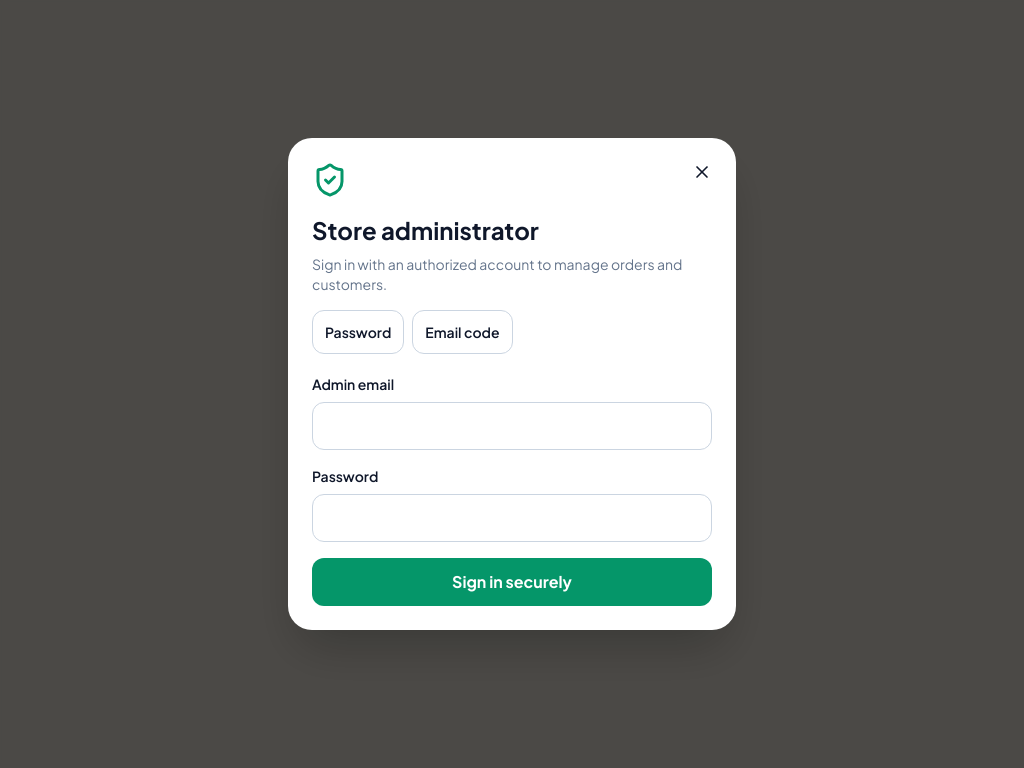
Test: administrator email-code sign-in › keeps delivery failures visible and never claims a code was sent
The image size is (1024, 768).
Click the button "Email code".
click(462, 332)  # box [412, 310, 513, 354]
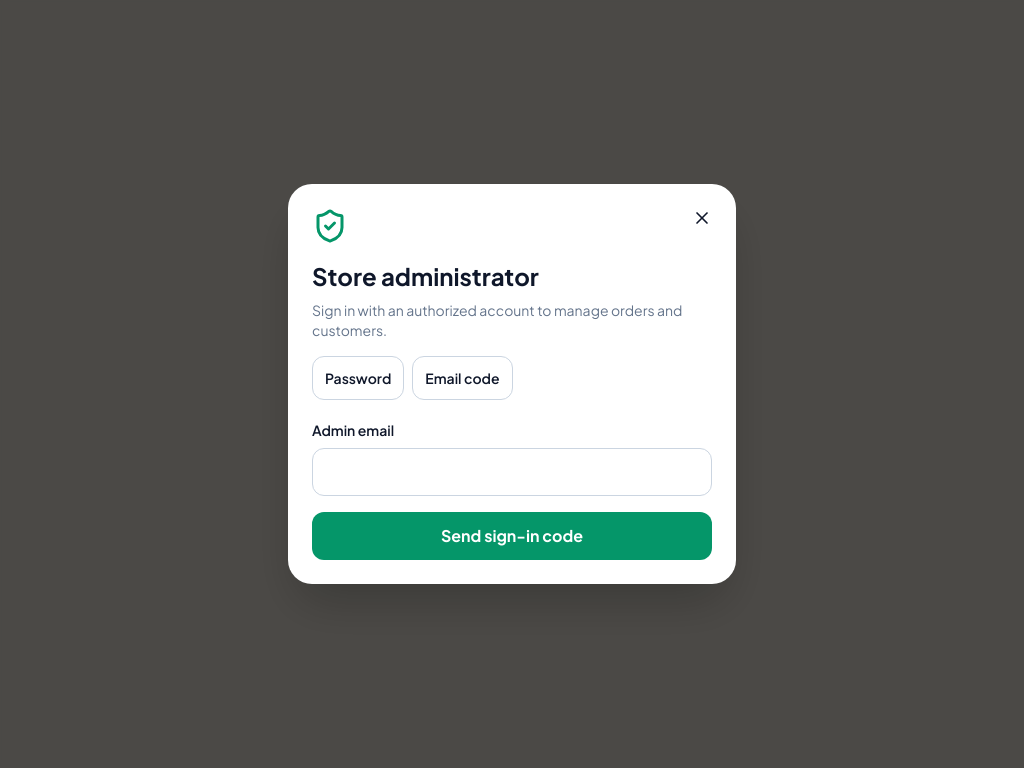
Type "staff@example.com" into the field labelled "Admin email".
click(512, 472); type("staff@example.com")  # box [312, 448, 712, 496]
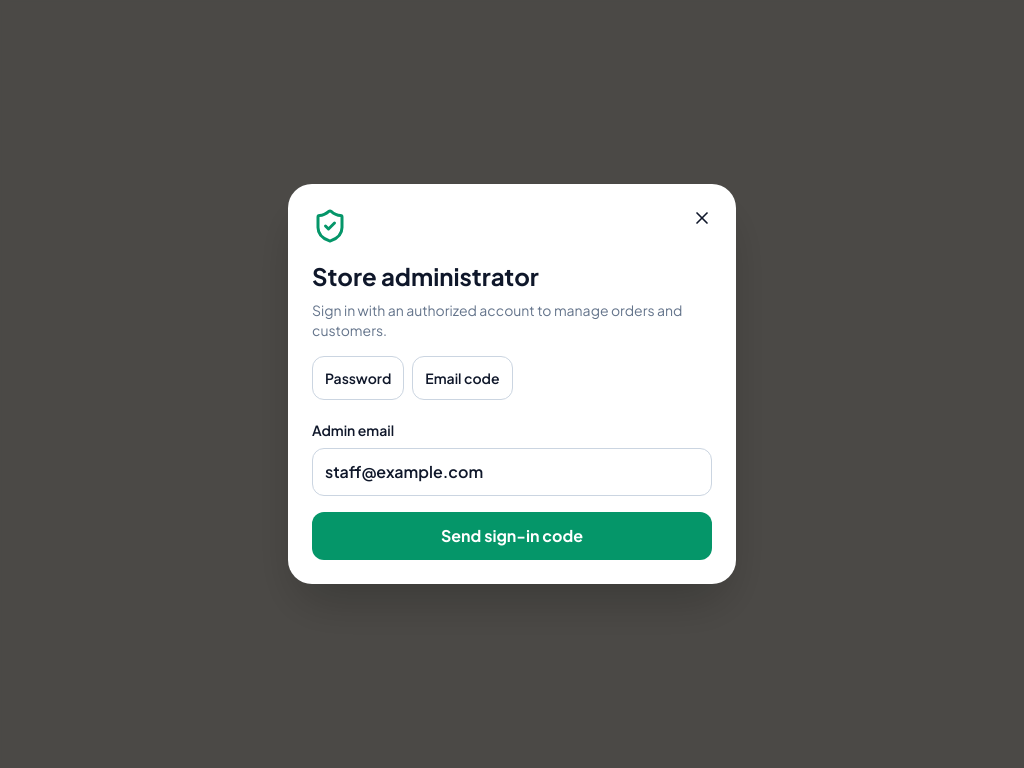
Click the button "Send sign-in code".
click(512, 536)  # box [312, 512, 712, 560]
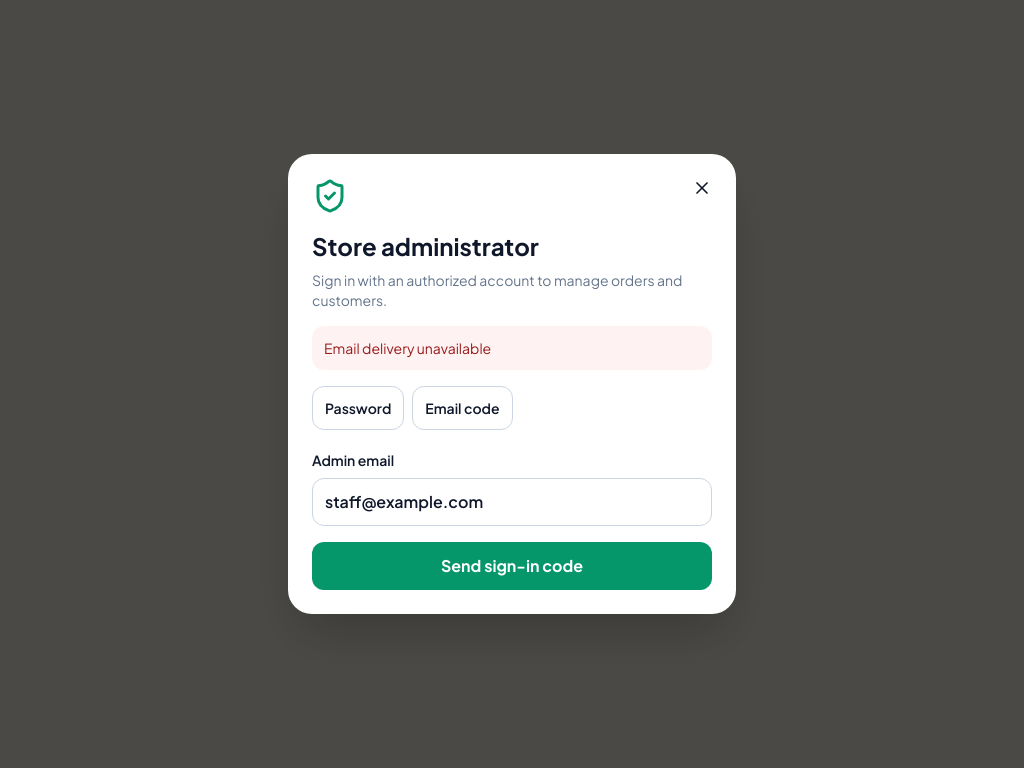
Expected: the message "Email delivery unavailable" is shown, [312, 326, 712, 370]
